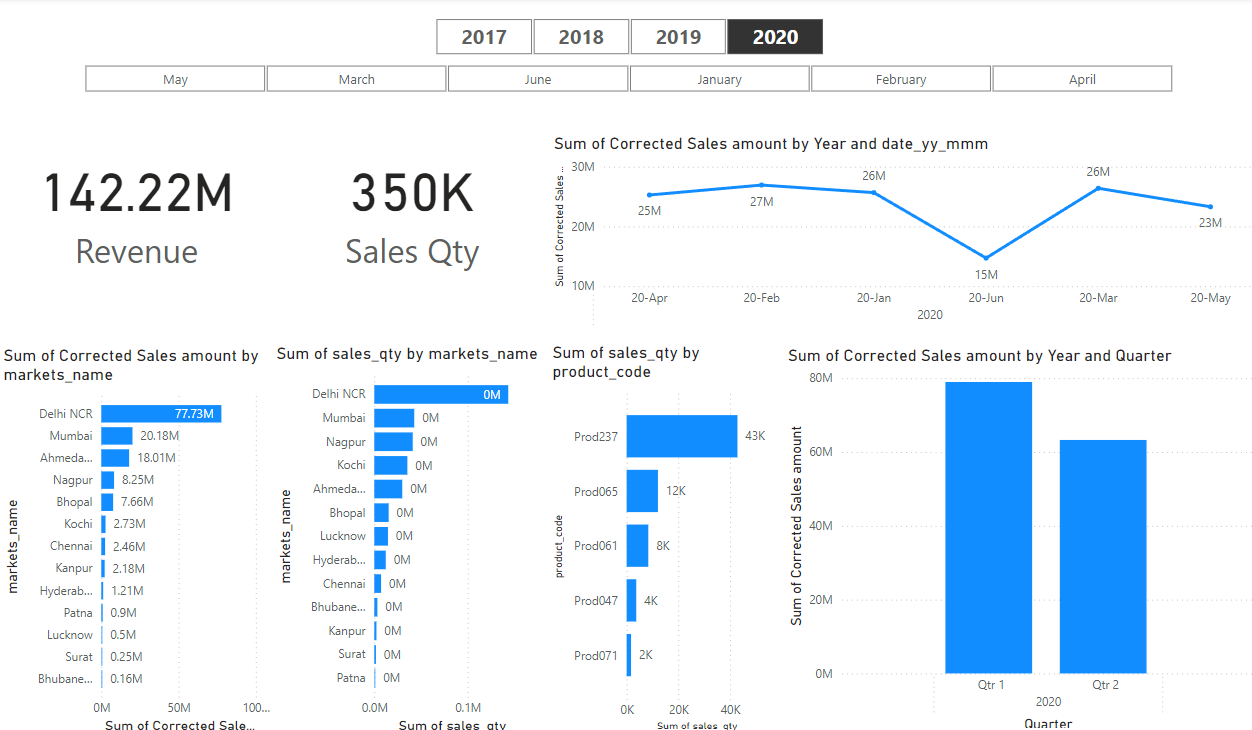

This screenshot's page, from the dashboard's own definition file:
{"tool":"powerbi","page":{"name":"Page 1","canvas":[1280,750],"ordinal":0},"visuals":[{"type":"card","fields":{"Values":["BaseMeasures.Revenue"]},"box":[1.5,138.5,279.7,150],"z":0},{"type":"card","fields":{"Values":["BaseMeasures.Sales Qty"]},"box":[281.6,138.3,278.6,150],"z":1000},{"type":"barChart","fields":{"Y":["Sum(sales transactions.Corrected Sales amount)"],"Category":["sales markets.markets_name"]},"box":[1.5,352.9,280.1,398.9],"z":1001},{"type":"barChart","fields":{"Category":["sales markets.markets_name"],"Y":["Sum(sales transactions.sales_qty)"]},"box":[279.3,352,281.6,400.6],"z":1002},{"type":"lineChart","fields":{"Y":["Sum(sales transactions.Corrected Sales amount)"],"Category":["sales date.date.Variation.Date Hierarchy.Year","sales date.date_yy_mmm"]},"box":[560.2,138.3,721.6,214.7],"z":1003},{"type":"slicer","fields":{"Values":["sales date.month_name"]},"box":[64.3,62.4,1152.8,39.7],"z":1006},{"type":"slicer","fields":{"Values":["sales date.year"]},"box":[419.5,15.1,442.2,47.2],"z":1007},{"type":"barChart","fields":{"Y":["Sum(sales transactions.sales_qty)"],"Category":["sales products.product_code"]},"box":[559.4,349.6,238.1,400.6],"z":1008},{"type":"lineStackedColumnComboChart","fields":{"Y":["Sum(sales transactions.Corrected Sales amount)"],"Category":["sales date.date.Variation.Date Hierarchy.Year","sales date.date.Variation.Date Hierarchy.Quarter"]},"box":[797,353,483,397],"z":1009}]}

Visuals, with their boxes in screenshot pixels (x1, y1, x2, y2), scaled from the page's 1280x750 canvas onto the 1252x730 screenshot:
card - BaseMeasures.Revenue: <region>1, 135, 275, 281</region>
card - BaseMeasures.Sales Qty: <region>275, 135, 548, 281</region>
barChart - Sum(sales transactions.Corrected Sales amount) x sales markets.markets_name: <region>1, 343, 275, 729</region>
barChart - sales markets.markets_name x Sum(sales transactions.sales_qty): <region>273, 343, 549, 729</region>
lineChart - Sum(sales transactions.Corrected Sales amount) x sales date.date.Variation.Date Hierarchy.Year: <region>548, 135, 1251, 344</region>
slicer - sales date.month_name: <region>63, 61, 1190, 99</region>
slicer - sales date.year: <region>410, 15, 843, 61</region>
barChart - Sum(sales transactions.sales_qty) x sales products.product_code: <region>547, 340, 780, 729</region>
lineStackedColumnComboChart - Sum(sales transactions.Corrected Sales amount) x sales date.date.Variation.Date Hierarchy.Year: <region>780, 344, 1251, 729</region>
